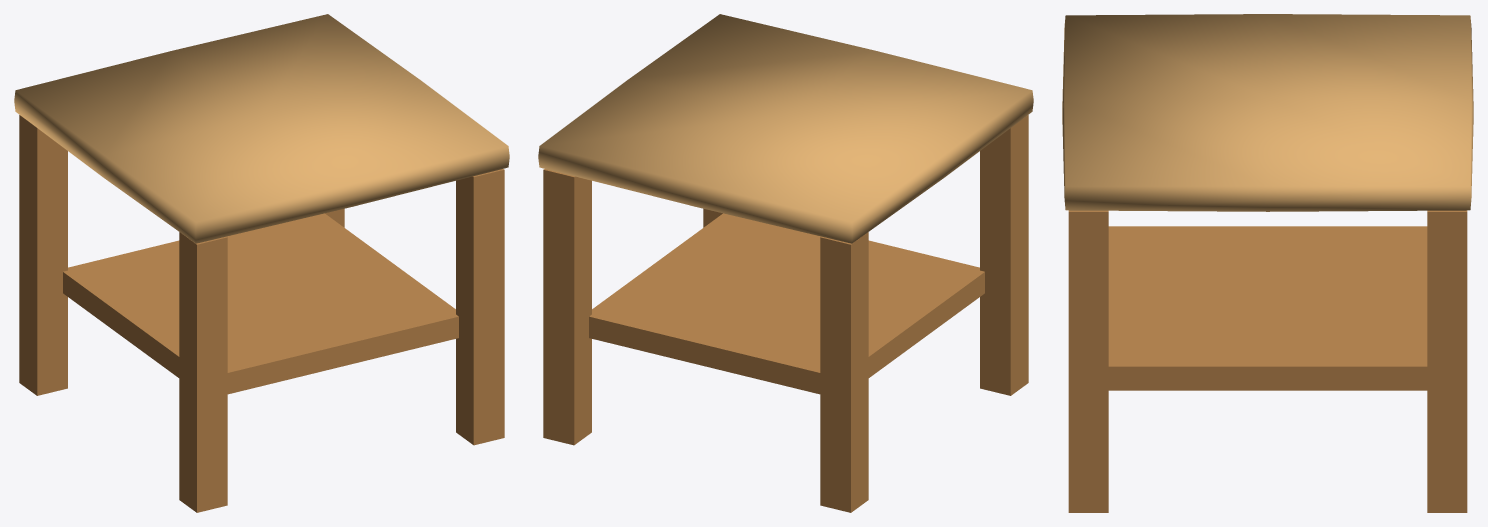
The model's file is side_table.glb.
3 views of the same model, side by side, from view 1: azimuth 30°, elevation 25°; view 2: azimuth 150°, elevation 25°; view 3: azimuth 270°, elevation 25° (orthographic). The views are drawn at different scales.
Visible parts, largest first — view 1: root; view 2: root; view 3: root.
Boxes of the visible parts, left/top/right/bottom form: root: left=14, top=14, right=509, bottom=512; root: left=538, top=14, right=1033, bottom=512; root: left=1062, top=14, right=1473, bottom=512.
Bounding box in the file's own units: 0.62 × 0.55 × 0.62.
